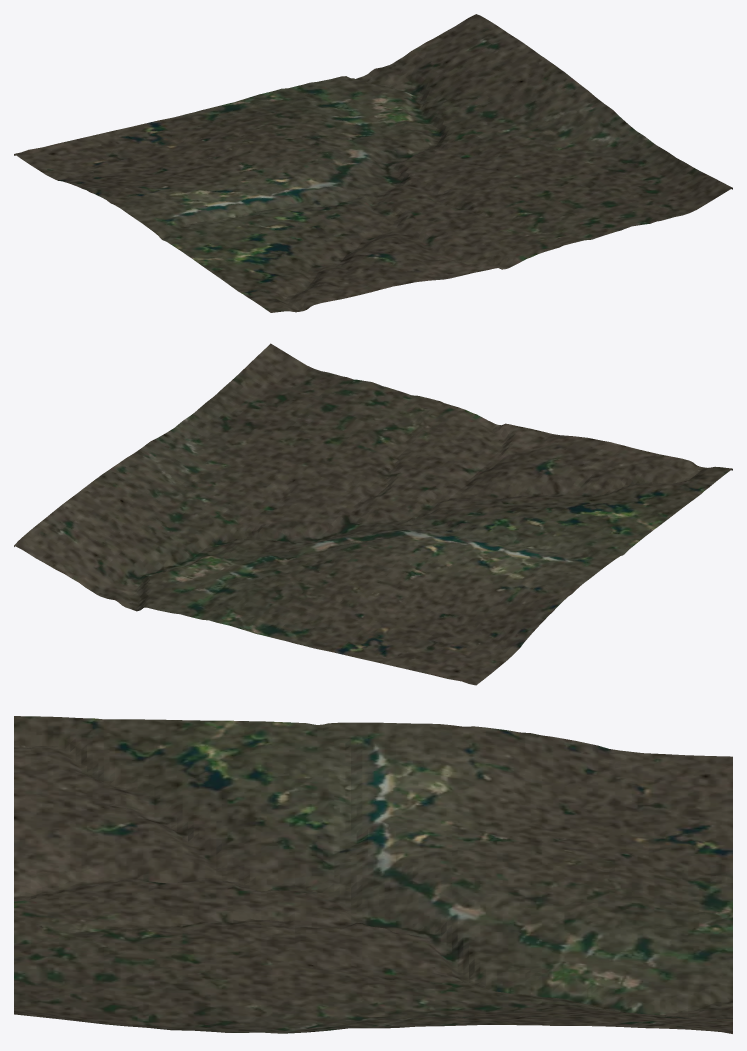
3 views of the same model, one above another, from view 1: azimuth 30°, elevation 25°; view 2: azimuth 150°, elevation 25°; view 3: azimuth 270°, elevation 25° (orthographic). The views are drawn at different scales.
Bounding box in the file's own units: 250 × 26.82 × 241.
Materials: 1 (1 with a texture image).
